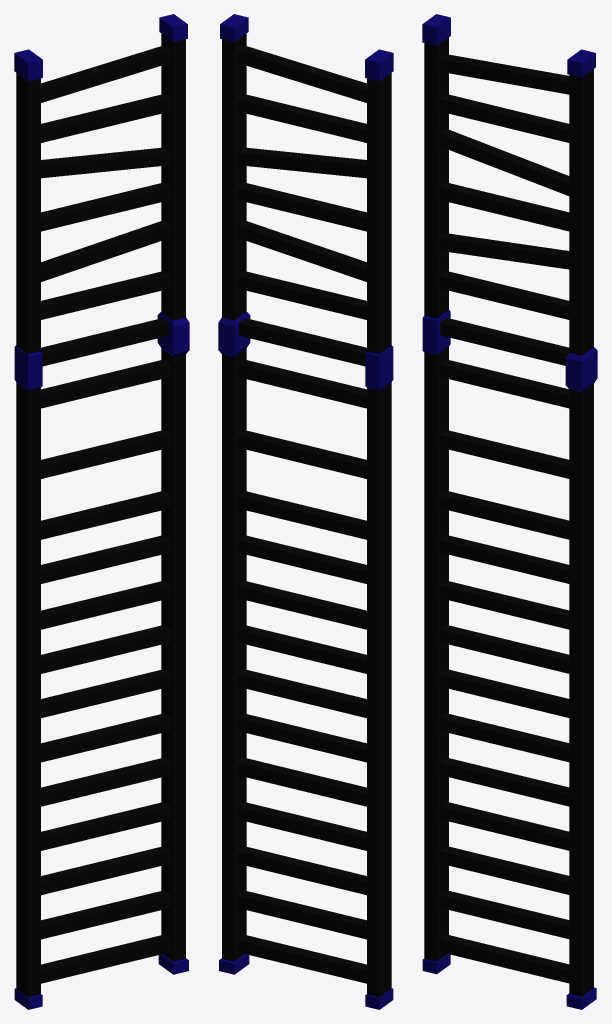
File: Ladder.fbx
The picture shows the model from 3 angles, left to right: view 1: azimuth 30°, elevation 25°; view 2: azimuth 150°, elevation 25°; view 3: azimuth 330°, elevation 25°; orthographic projection.
Visible parts, largest first — view 1: polySurface16; view 2: polySurface16; view 3: polySurface16.
Boxes of the visible parts, x1,y1,x2,y2 form: polySurface16: [14, 14, 189, 1009]; polySurface16: [218, 14, 393, 1009]; polySurface16: [422, 14, 597, 1009].
Size of the model in its own units: 4.05 by 22.83 by 0.6806.
